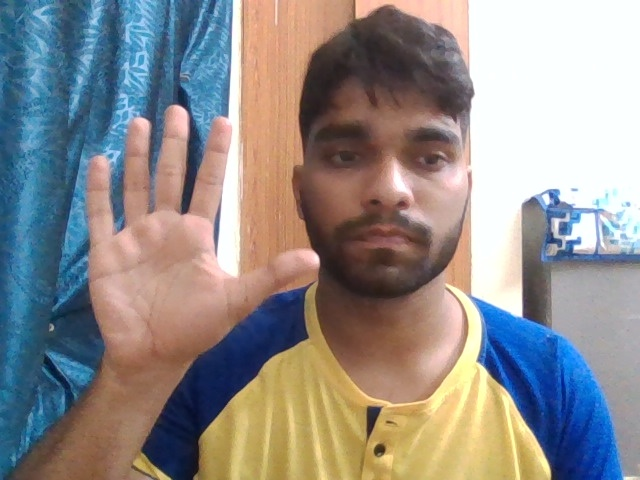Hello: (81, 98, 327, 389)
